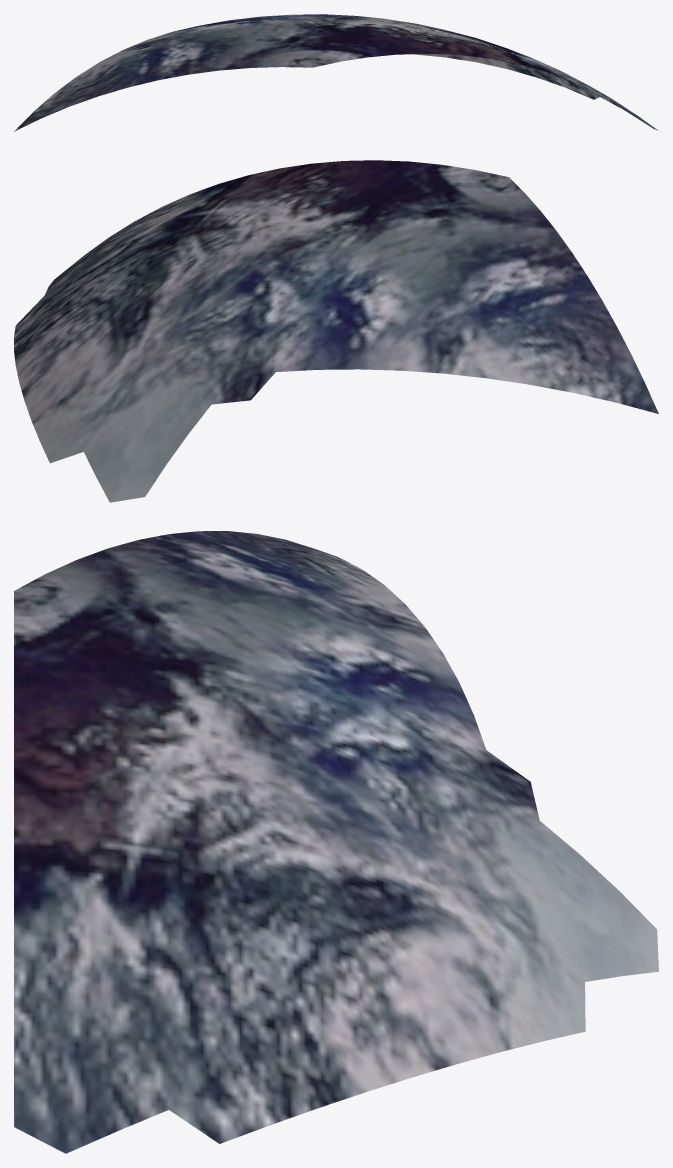
3 views of the same model, one above another, from view 1: azimuth 30°, elevation 25°; view 2: azimuth 150°, elevation 25°; view 3: azimuth 270°, elevation 25° (orthographic). The views are drawn at different scales.
Parts seen in each view (by area): view 1: B_Earth; view 2: B_Earth; view 3: B_Earth.
Part boxes in pixels (x1=…): B_Earth: x1=14, y1=14, x2=658, y2=131; B_Earth: x1=14, y1=160, x2=658, y2=502; B_Earth: x1=14, y1=531, x2=658, y2=1153.
Size of the model in its own units: 317 by 85.52 by 185.
Materials: 1 (1 with a texture image).
